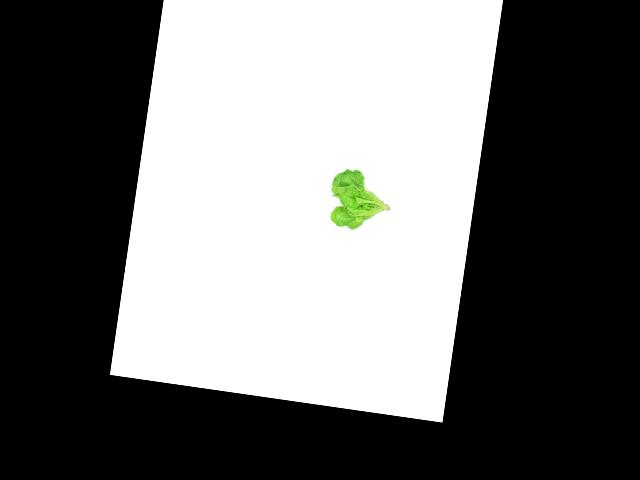lettuce: (322, 162, 397, 236)
